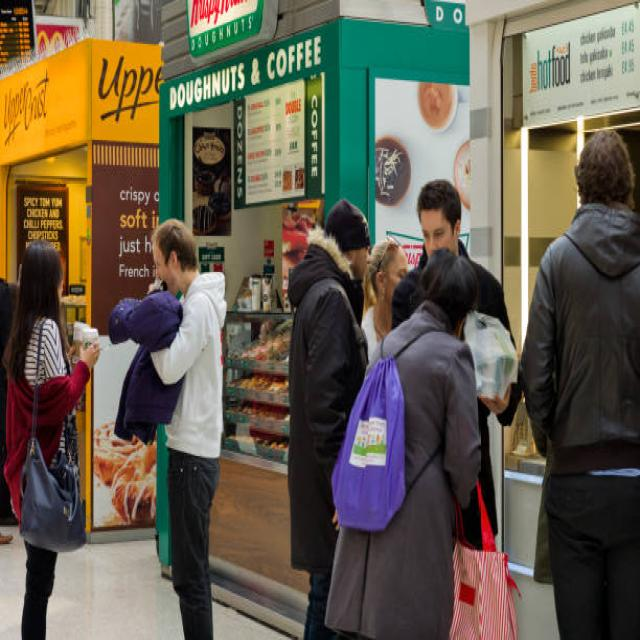Emperan: (148, 0, 494, 638)
